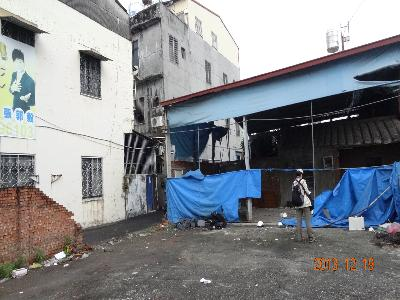plastic_bag: (312, 158, 400, 232), (164, 167, 262, 226)
